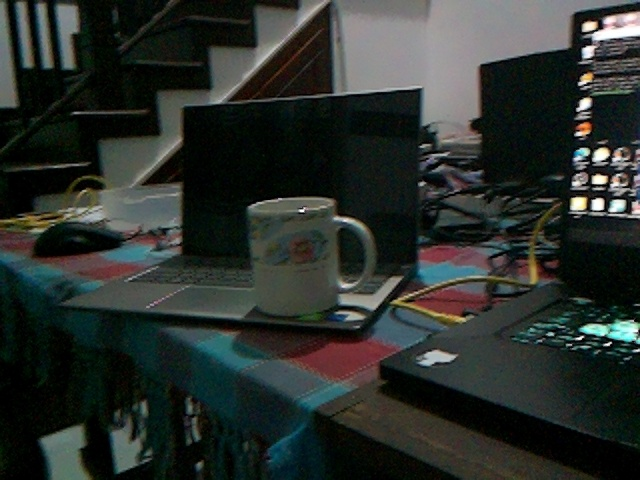mug: (242, 193, 379, 317)
